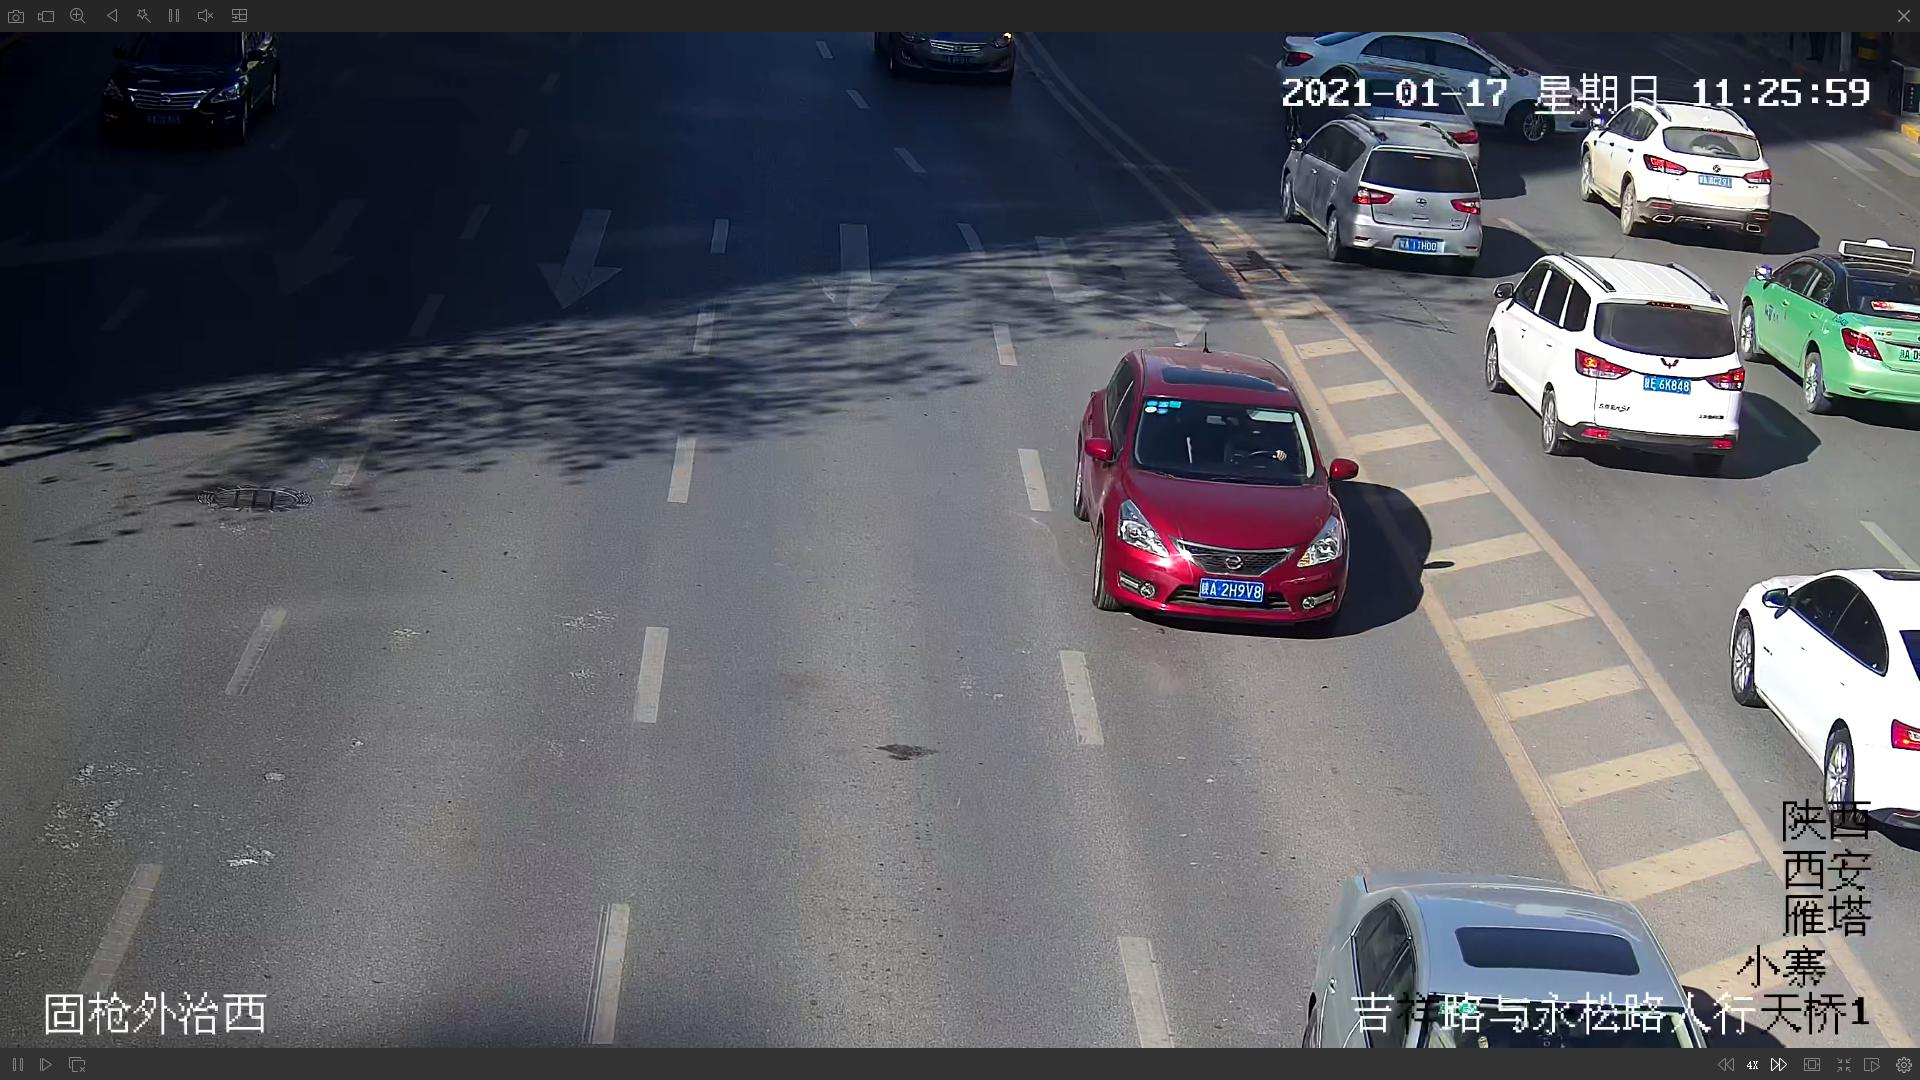dark-red: (1079, 348, 1364, 628)
